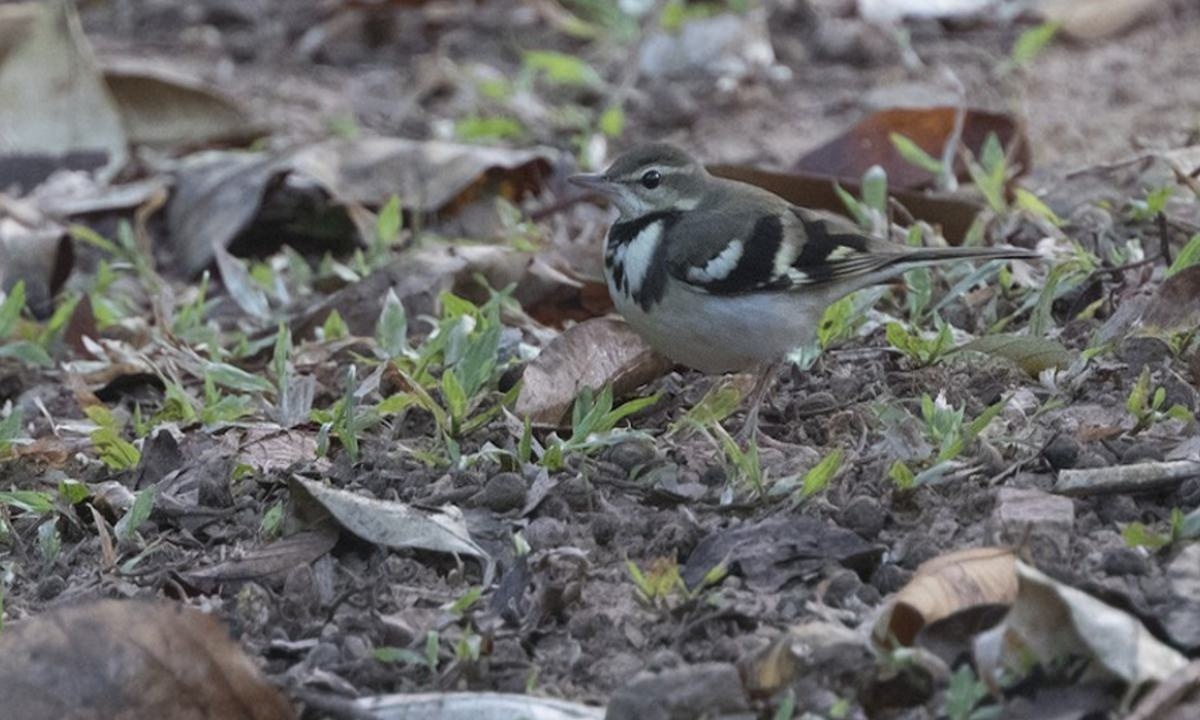wagtail: (561, 158, 963, 430)
